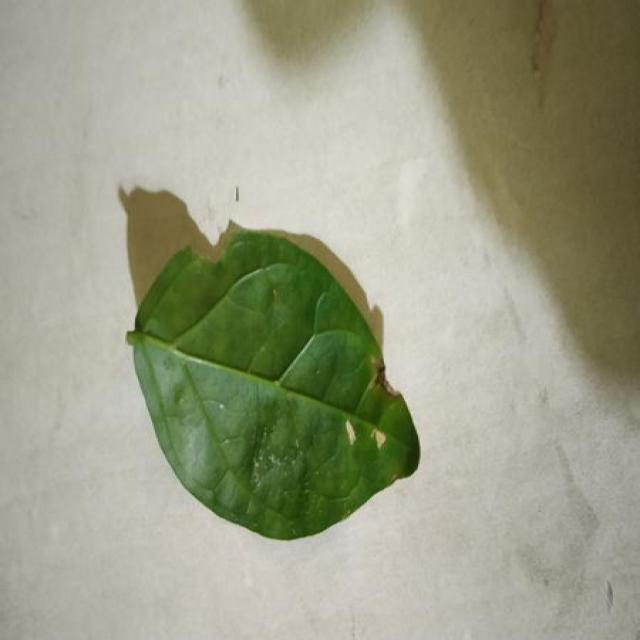Jasmine: (128, 230, 418, 539)
